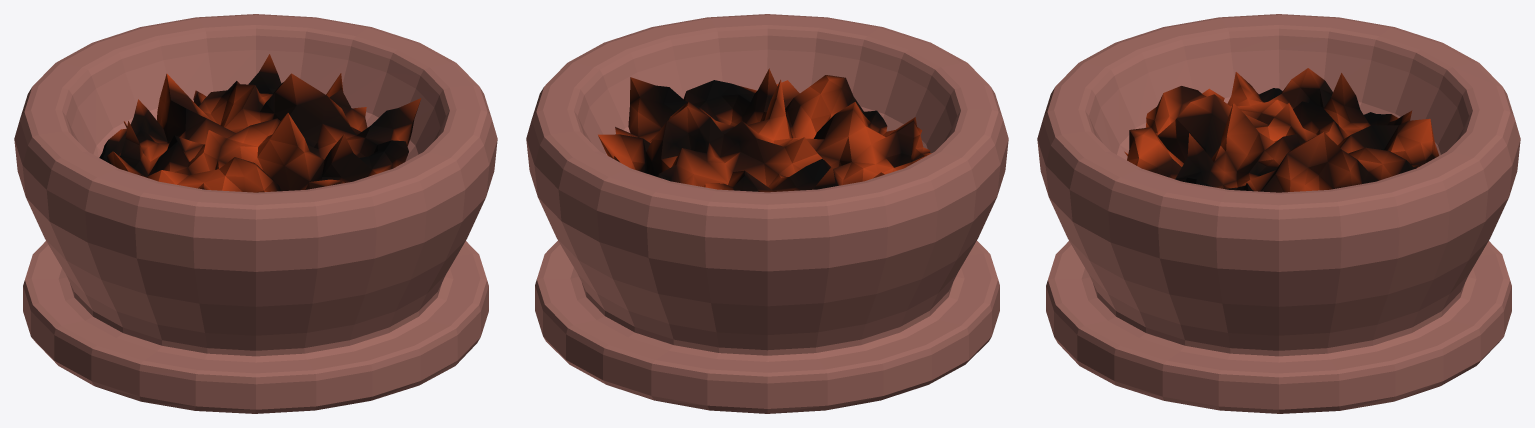
Rendered from vfx_vase.fbx.
3 views of the same model, side by side, from view 1: azimuth 30°, elevation 25°; view 2: azimuth 150°, elevation 25°; view 3: azimuth 270°, elevation 25° (orthographic).
Parts seen in each view (by area): view 1: vase; view 2: vase; view 3: vase.
Boxes of the visible parts, box(x1,y1,x2,y2) form: vase: box(14, 14, 497, 413); vase: box(526, 14, 1008, 413); vase: box(1037, 14, 1520, 413).
Bounding box in the file's own units: 98.45 × 49.64 × 98.45.
